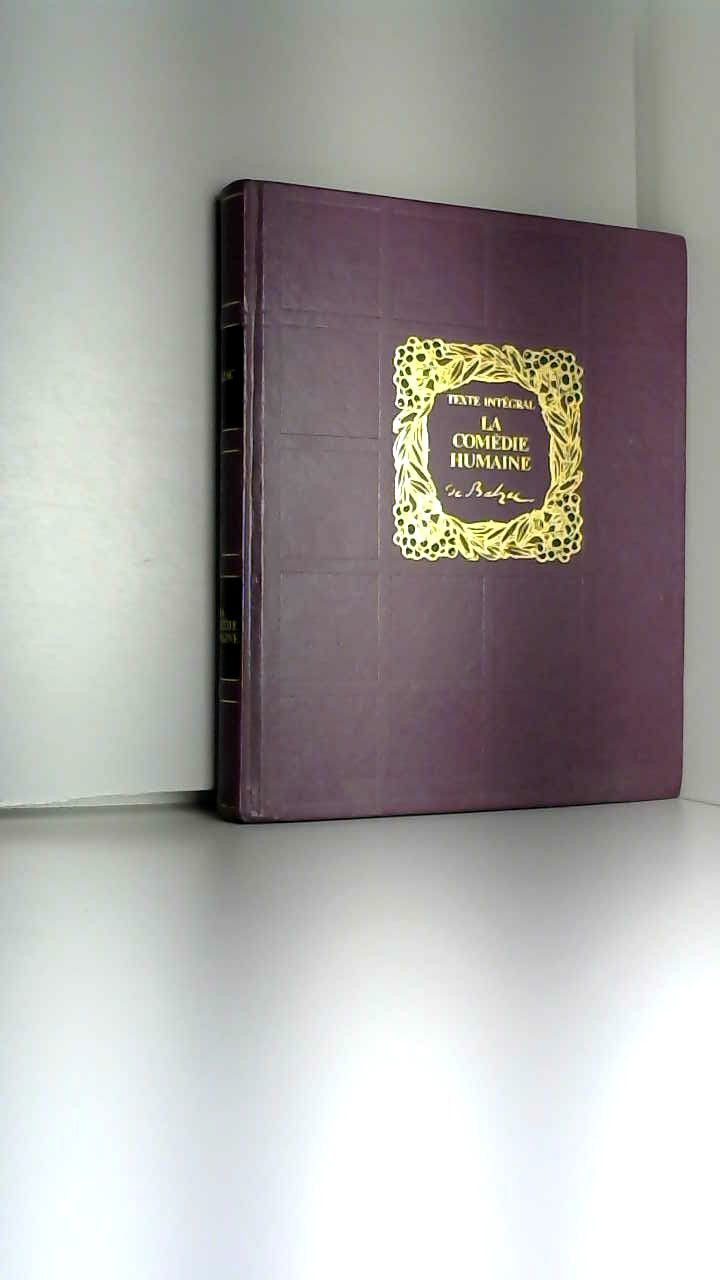book: (180, 150, 715, 843)
